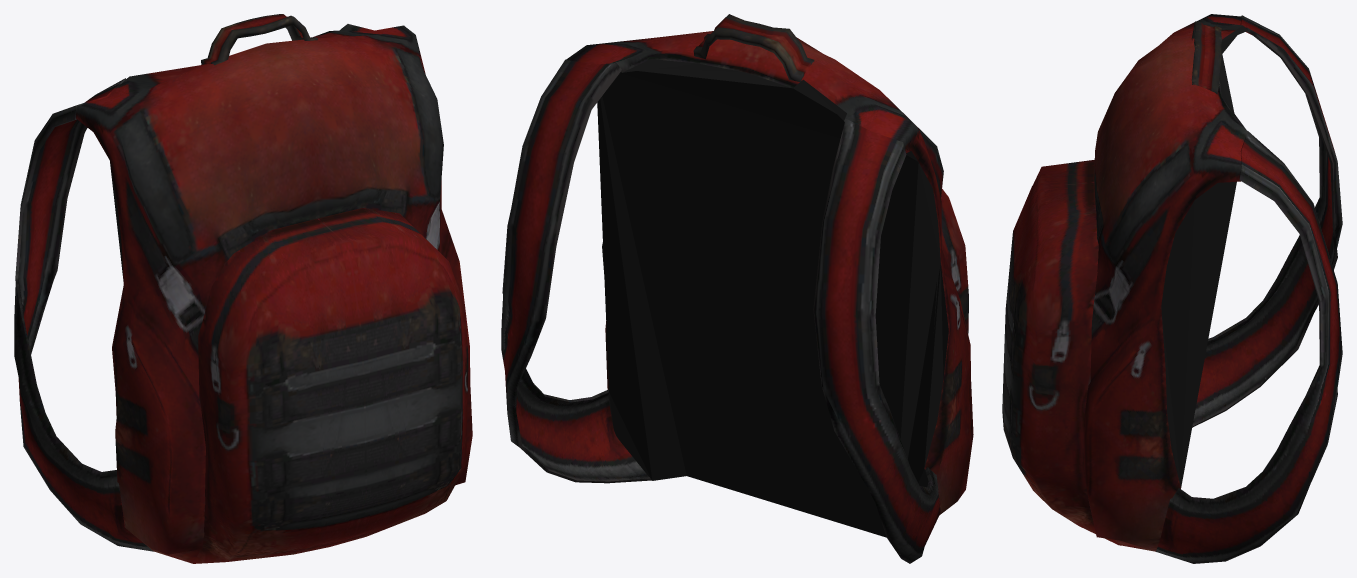
Rendered from Backpack.fbx.
The picture shows the model from 3 angles, left to right: view 1: azimuth 30°, elevation 25°; view 2: azimuth 150°, elevation 25°; view 3: azimuth 270°, elevation 25°; orthographic projection. The views are drawn at different scales.
Parts seen in each view (by area): view 1: backpack; view 2: backpack; view 3: backpack.
Part boxes in pixels (x1,y1,x2,y2): backpack: (14, 14, 472, 563); backpack: (501, 14, 973, 563); backpack: (1002, 14, 1342, 563).
Bounding box in the file's own units: 33.38 × 39.95 × 26.5.
Materials: 1 (1 with a texture image).
